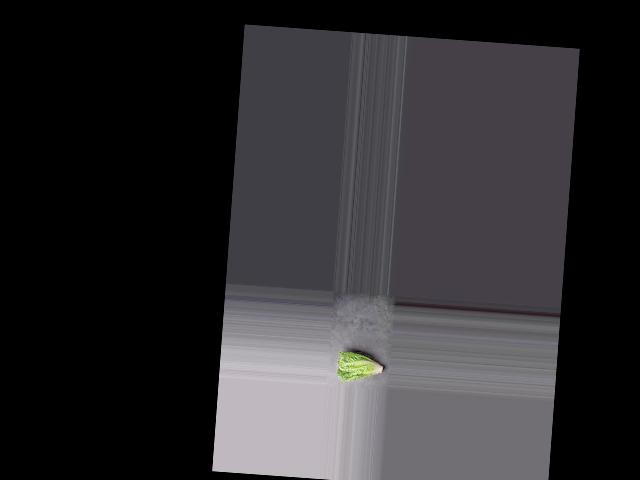lettuce: (336, 349, 387, 385)
